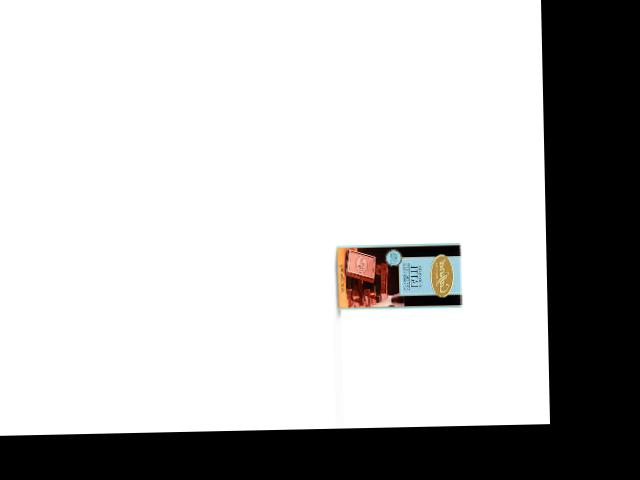chocolate: (334, 241, 463, 312)
